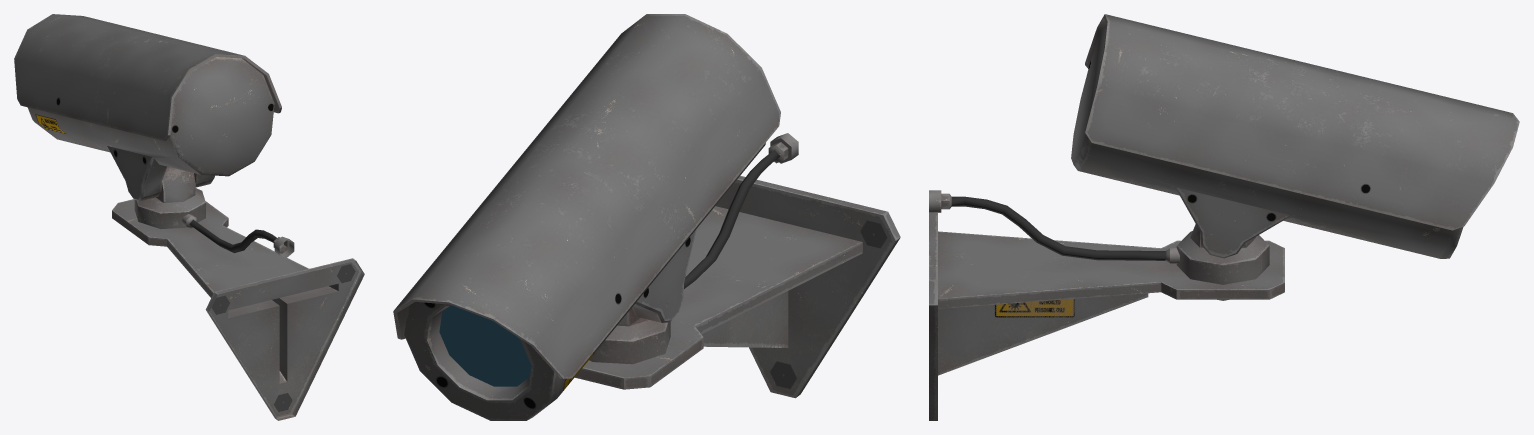
Rendered from camera1.glb.
The picture shows the model from 3 angles, left to right: view 1: azimuth 30°, elevation 25°; view 2: azimuth 150°, elevation 25°; view 3: azimuth 270°, elevation 25°; orthographic projection. The views are drawn at different scales.
Parts seen in each view (by area): view 1: defaultMaterial (×3); view 2: defaultMaterial (×3); view 3: defaultMaterial (×3).
Boxes of the visible parts, x1,y1,x2,y2 form: defaultMaterial (×3): (14,14,364,420); defaultMaterial (×3): (393,14,900,420); defaultMaterial (×3): (929,14,1519,420).
Bounding box in the file's own units: 0.7675 × 1.47 × 2.
1 material, 1 textured.
